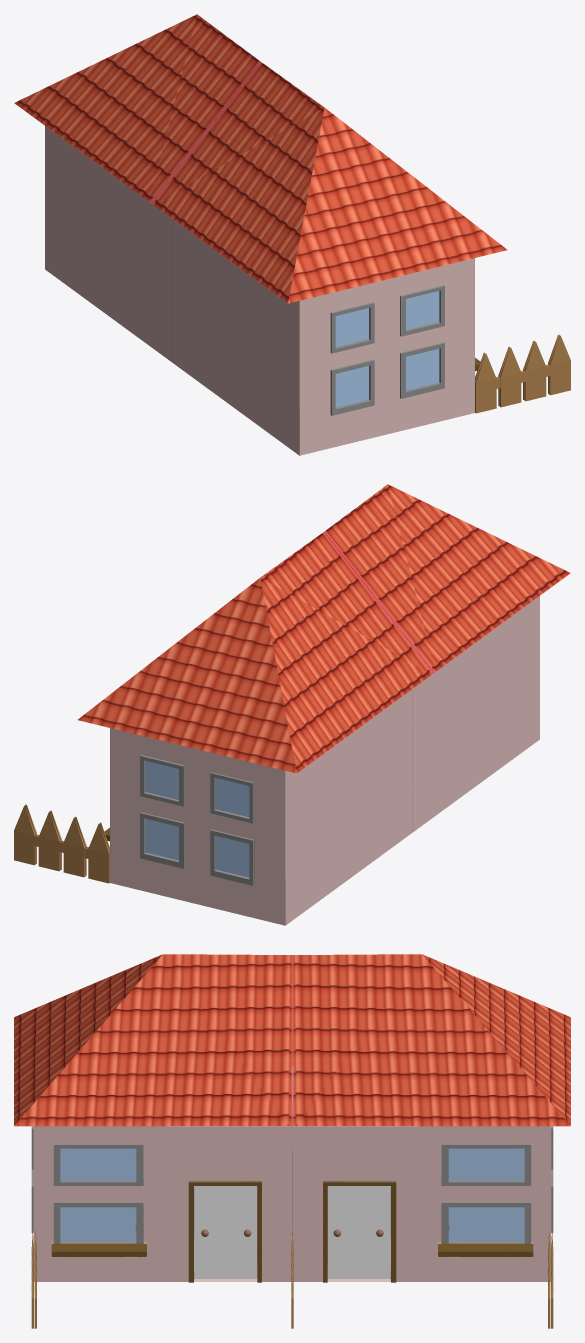
File: HOUSE.fbx
3 views of the same model, one above another, from view 1: azimuth 30°, elevation 25°; view 2: azimuth 150°, elevation 25°; view 3: azimuth 270°, elevation 25° (orthographic).
Parts seen in each view (by area): view 1: HOUSE; view 2: HOUSE; view 3: HOUSE.
Part boxes in pixels (left/top/right/bottom): HOUSE: left=14, top=14, right=570, bottom=455; HOUSE: left=14, top=484, right=570, bottom=925; HOUSE: left=14, top=954, right=570, bottom=1328.
Bounding box in the file's own units: 1069 × 981 × 1740.
Materials: 1 (1 with a texture image).
